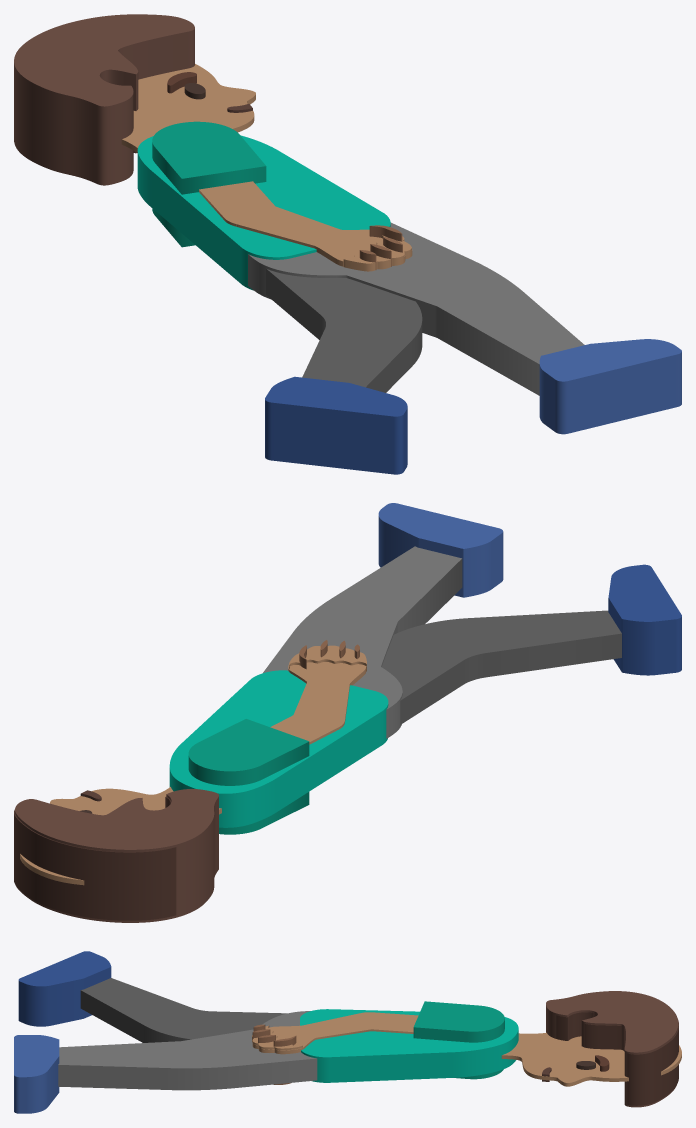
The model's file is emoji_u1f6b6_1f3fd_200d_2642_200d_27a1.glb.
The picture shows the model from 3 angles, top to bottom: view 1: azimuth 30°, elevation 25°; view 2: azimuth 150°, elevation 25°; view 3: azimuth 270°, elevation 25°; orthographic projection. The views are drawn at different scales.
Visible parts, largest first — view 1: emoji_u1f6b6_1f3fd_200d_2642_200d_27a1; view 2: emoji_u1f6b6_1f3fd_200d_2642_200d_27a1; view 3: emoji_u1f6b6_1f3fd_200d_2642_200d_27a1.
Boxes of the visible parts, <box> form: emoji_u1f6b6_1f3fd_200d_2642_200d_27a1: <box>14,14,681,474</box>; emoji_u1f6b6_1f3fd_200d_2642_200d_27a1: <box>14,503,681,922</box>; emoji_u1f6b6_1f3fd_200d_2642_200d_27a1: <box>14,951,681,1113</box>.
Bounding box in the file's own units: 0.0145 × 0.003 × 0.0331.
